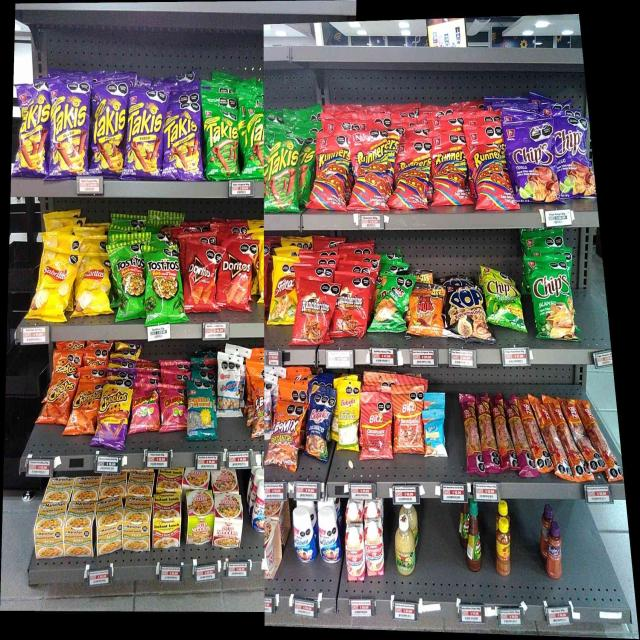bitzAlmendras: (425, 411, 445, 457)
bitzEnchilado90: (361, 394, 391, 459), (393, 389, 423, 454)
bitzEnchilado95: (530, 396, 620, 474)
bitzHabanero: (462, 394, 477, 474), (495, 396, 508, 472), (481, 396, 492, 474), (514, 413, 526, 477)
bokadosCacahuates: (308, 392, 330, 462)
botaneraChilito: (496, 518, 511, 578)
cheetosFlaminHot: (101, 388, 127, 448)
cheetosOriginal: (71, 391, 95, 434), (49, 376, 69, 423)
chipsFuego: (510, 127, 555, 203), (557, 117, 590, 197)
chipsJalapeno: (533, 259, 576, 341)
chipsPapatinas: (488, 269, 521, 330)
churrumais: (132, 386, 159, 431), (161, 386, 186, 430)
delPrimoSalsa: (395, 515, 416, 575)
doritosNacho: (185, 244, 218, 313), (222, 240, 252, 312)
fritosLimon: (273, 261, 295, 324)
hotNutsOriginal: (409, 289, 443, 337)
leoCacahuates: (218, 357, 243, 419)
leoMix: (273, 402, 300, 469)
maruchanPollo: (36, 506, 66, 558), (125, 499, 151, 552), (68, 504, 94, 556), (96, 504, 122, 552)
maruchanRes: (154, 495, 180, 549)
nestleCarnation: (364, 519, 384, 576), (345, 524, 363, 581)
nestleLechera: (214, 496, 242, 549), (186, 492, 213, 546), (294, 508, 316, 562), (318, 511, 340, 564), (254, 483, 264, 533)
popKarameladas: (447, 287, 486, 342)
rancheritos: (298, 280, 330, 344), (335, 274, 367, 337)
rufflesQueso: (378, 277, 405, 334)
runners: (350, 134, 387, 210), (432, 139, 468, 206), (315, 136, 346, 210), (472, 147, 507, 210), (396, 143, 428, 209)
sabritasOriginal: (40, 249, 70, 321), (78, 256, 108, 314)
salsaBufalo: (468, 502, 482, 572)
semillasCalabaza: (337, 383, 360, 452)
semillasGirasol: (188, 384, 216, 439)
tajinDulce: (546, 522, 562, 580)
takisFuego: (50, 81, 88, 177), (92, 82, 126, 176), (165, 93, 201, 179), (129, 88, 162, 180), (16, 84, 47, 178)
takisOriginal: (203, 93, 238, 180), (267, 138, 301, 214), (243, 101, 265, 179)
tostitos: (145, 248, 182, 323), (113, 247, 143, 320)
